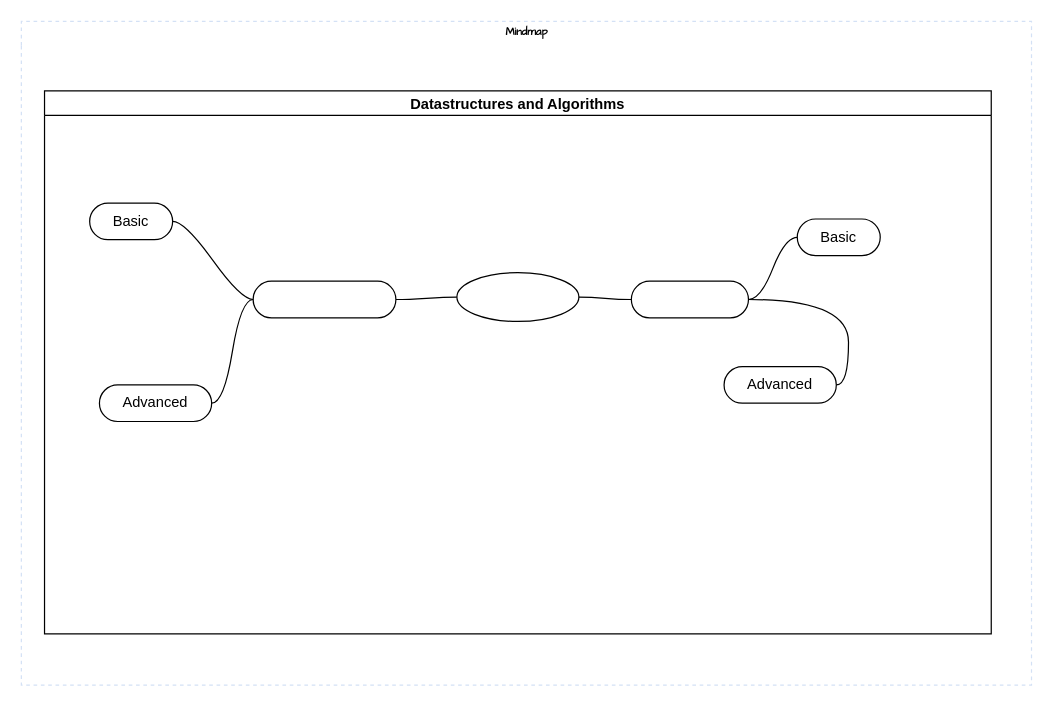
Some shapes in this 1053 by 706 pixel diagram are drawn without their labels. Here are the shapes that lost their labels. From the top down, the centre of each, then its label:
At [324,299]: "Datastructures".
At [517,296]: "DSA".
At [689,299]: "Algorithms".
